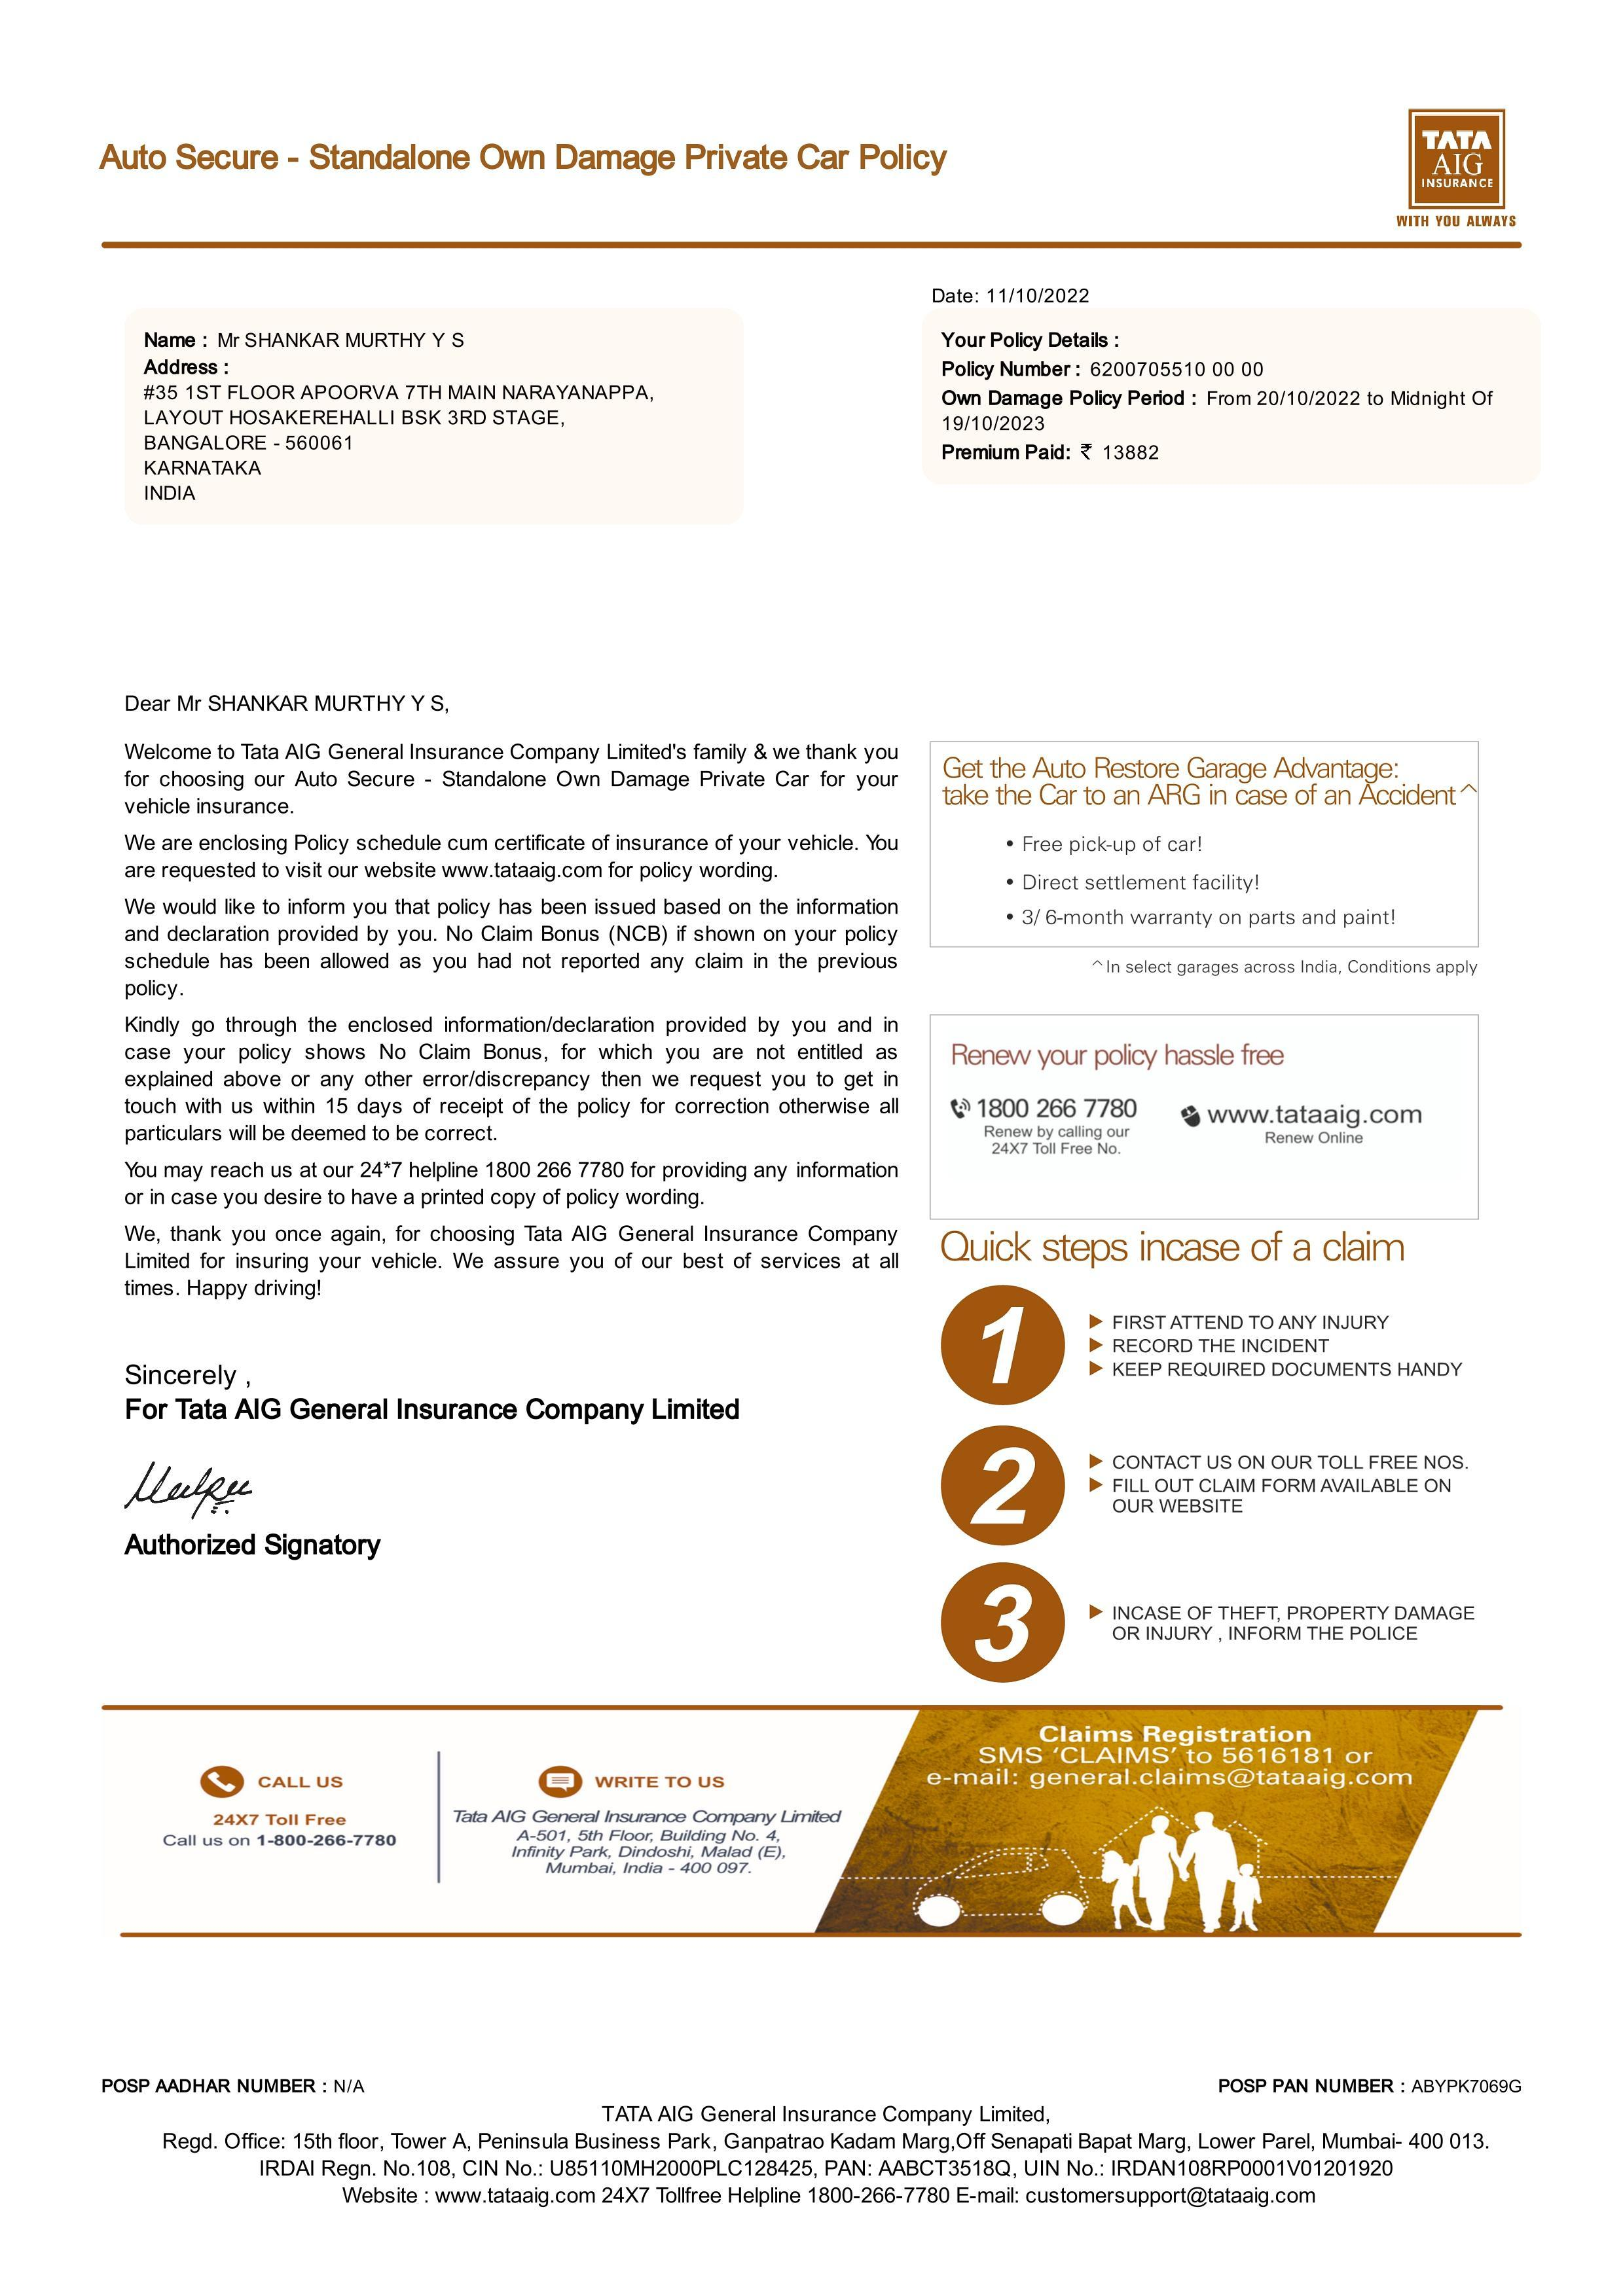InvoiceDate: (980, 276, 1103, 316)
InvoiceNumber: (1084, 355, 1268, 383)
TotalAmount: (1071, 435, 1165, 470)
